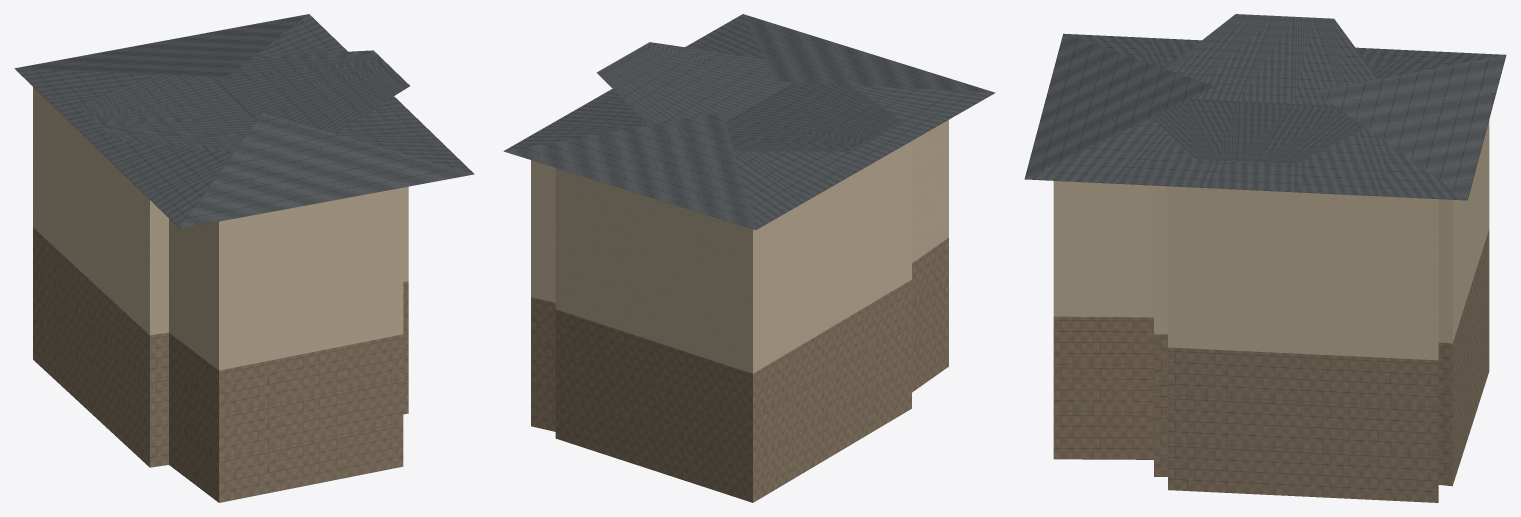
The model's file is bld_c36_-26_445.gltf.
The picture shows the model from 3 angles, left to right: view 1: azimuth 30°, elevation 25°; view 2: azimuth 150°, elevation 25°; view 3: azimuth 270°, elevation 25°; orthographic projection. The views are drawn at different scales.
Visible parts, largest first — view 1: bld_c36_-26_445; view 2: bld_c36_-26_445; view 3: bld_c36_-26_445.
Boxes of the visible parts, <box> form: bld_c36_-26_445: <box>14,14,474,502</box>; bld_c36_-26_445: <box>503,14,995,502</box>; bld_c36_-26_445: <box>1024,14,1506,502</box>.
Bounding box in the file's own units: 12.79 × 12.1 × 15.63.
3 materials, 3 textured.
